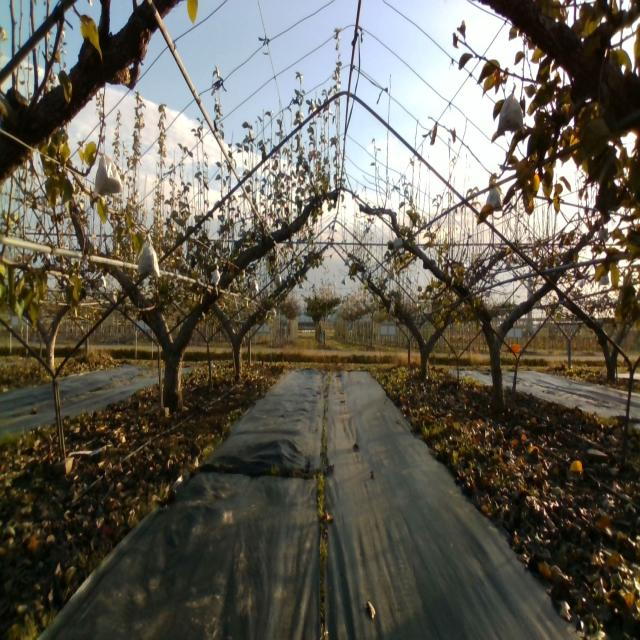pearbags: (498, 82, 525, 136), (93, 152, 123, 196), (137, 234, 161, 278), (484, 186, 502, 210)
